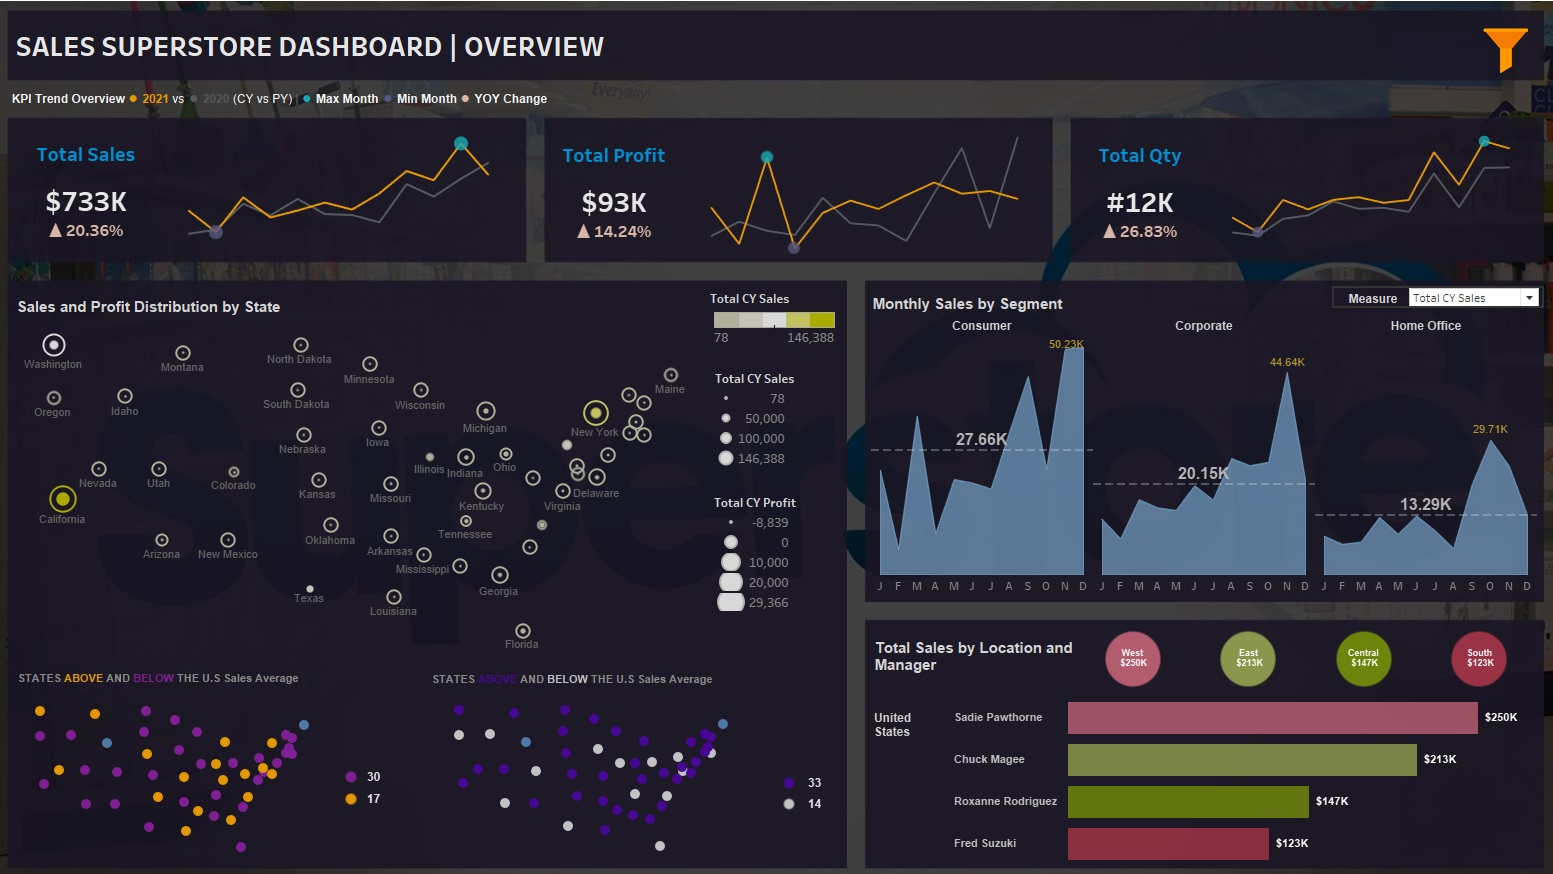

The dashboard page shown, as its layout file describes it:
{"tool":"tableau","page":{"name":"Sales Dashboard ","canvas":[1600,900],"ordinal":0},"visuals":[{"type":"image","param":"C:/Users/visha/Desktop/Tableau/Sales OverView  Dashboard/Sales Dashboard Backgro","box":[8,8,1584,884]},{"type":"text","box":[36,26,607,60]},{"type":"dashboard-object","box":[1502,39,54,45]},{"type":"filter","title":"Sales and Profit by State","param":"[federated.0g3ur0r0uw5kf61cfsvl80a7qf6o].[none:Category:nk]","box":[1357,78,155,58]},{"type":"text","box":[32,94,574,30]},{"type":"filter","title":"Monthly Sales by segment","param":"[federated.0g3ur0r0uw5kf61cfsvl80a7qf6o].[none:Region:nk]","box":[1357,136,155,57]},{"type":"worksheet","title":"Profit KPI","mark":"Automatic","box":[572,137,130,132]},{"type":"worksheet","title":"Profit Sparkline","mark":"Automatic","rows":["min max sales (copy)_1085930503061962753"],"cols":["Order Date"],"box":[702,137,370,132]},{"type":"worksheet","title":"Qty KPI","mark":"Automatic","box":[1099,138,127,131]},{"type":"worksheet","title":"Qty  Sparkline","mark":"Automatic","rows":["min max sales (copy)_1085930503064506370"],"cols":["Order Date"],"box":[1226,138,335,131]},{"type":"worksheet","title":"Sales KPI","mark":"Automatic","box":[38,139,142,126]},{"type":"worksheet","title":"Sales Sparkline","mark":"Automatic","rows":["Calculation_1085930503042977792"],"cols":["Order Date"],"box":[180,139,362,126]},{"type":"filter","title":"Sales and Profit by State","param":"[federated.0g3ur0r0uw5kf61cfsvl80a7qf6o].[none:Ship Mode:nk]","box":[1357,193,155,57]},{"type":"parameter","param":"[Parameters].[Parameter 1]","box":[1355,297,212,22]},{"type":"text","box":[893,300,323,30]},{"type":"legend","title":"Sales and Profit by State","param":"[federated.0g3ur0r0uw5kf61cfsvl80a7qf6o].[sum:Calculation_69242887150641152:qk]","box":[733,301,129,69]},{"type":"text","box":[37,303,323,30]},{"type":"worksheet","title":"Monthly Sales by segment","mark":"Area","rows":["Calculation_2114721546205949961"],"cols":["Segment","Order Date"],"box":[894,327,666,279]},{"type":"worksheet","title":"Sales and Profit by State","mark":"Circle","box":[35,331,697,332]},{"type":"legend","title":"Sales and Profit by State","param":"[federated.0g3ur0r0uw5kf61cfsvl80a7qf6o].[sum:Calculation_69242887150641152:qk]","box":[738,381,126,101]},{"type":"legend","title":"Sales and Profit by State","param":"[federated.0g3ur0r0uw5kf61cfsvl80a7qf6o].[sum:Total CY Sales (copy)_692428871572","box":[737,505,125,118]},{"type":"text","box":[895,635,212,65]},{"type":"worksheet","title":"Region wise Sales","mark":"Circle","cols":["Region"],"box":[1098,635,462,70]},{"type":"text","box":[38,675,326,30]},{"type":"text","box":[452,678,326,25]},{"type":"worksheet","title":"Total Sales by Location and Manager","mark":"Automatic","rows":["Country/Region","Regional Manager"],"cols":["Calculation_69242887150641152"],"box":[891,708,674,168]},{"type":"worksheet","title":"Avg Profit by State","mark":"Automatic","box":[464,709,300,160]},{"type":"worksheet","title":"Avg Sales by State","mark":"Automatic","box":[45,710,300,160]},{"type":"worksheet","title":"Avg Sales by state count","mark":"Circle","rows":["Calculation_2114721546121756677"],"box":[341,777,65,44]},{"type":"worksheet","title":"Avg Profit by state count","mark":"Circle","rows":["Sales Avg Color (copy)_2114721546171797512"],"box":[776,783,71,42]}]}

Visuals, with their boxes in screenshot pixels (x1, y1, x2, y2), scaled from the page's 1600x900 canvas onto the 1553x874 screenshot:
image: bbox=(8, 8, 1545, 866)
text: bbox=(35, 25, 624, 84)
dashboard-object: bbox=(1458, 38, 1510, 82)
"Sales and Profit by State" filter: bbox=(1317, 76, 1468, 132)
text: bbox=(31, 91, 588, 120)
"Monthly Sales by segment" filter: bbox=(1317, 132, 1468, 187)
"Profit KPI" worksheet: bbox=(555, 133, 681, 261)
"Profit Sparkline" worksheet: bbox=(681, 133, 1041, 261)
"Qty KPI" worksheet: bbox=(1067, 134, 1190, 261)
"Qty  Sparkline" worksheet: bbox=(1190, 134, 1515, 261)
"Sales KPI" worksheet: bbox=(37, 135, 175, 257)
"Sales Sparkline" worksheet: bbox=(175, 135, 526, 257)
"Sales and Profit by State" filter: bbox=(1317, 187, 1468, 243)
parameter: bbox=(1315, 288, 1521, 310)
text: bbox=(867, 291, 1180, 320)
"Sales and Profit by State" legend: bbox=(711, 292, 837, 359)
text: bbox=(36, 294, 349, 323)
"Monthly Sales by segment" worksheet (Area marks): bbox=(868, 318, 1514, 588)
"Sales and Profit by State" worksheet (Circle marks): bbox=(34, 321, 710, 644)
"Sales and Profit by State" legend: bbox=(716, 370, 839, 468)
"Sales and Profit by State" legend: bbox=(715, 490, 837, 605)
text: bbox=(869, 617, 1074, 680)
"Region wise Sales" worksheet (Circle marks): bbox=(1066, 617, 1514, 685)
text: bbox=(37, 656, 353, 685)
text: bbox=(439, 658, 755, 683)
"Total Sales by Location and Manager" worksheet: bbox=(865, 688, 1519, 851)
"Avg Profit by State" worksheet: bbox=(450, 689, 742, 844)
"Avg Sales by State" worksheet: bbox=(44, 689, 335, 845)
"Avg Sales by state count" worksheet (Circle marks): bbox=(331, 755, 394, 797)
"Avg Profit by state count" worksheet (Circle marks): bbox=(753, 760, 822, 801)
